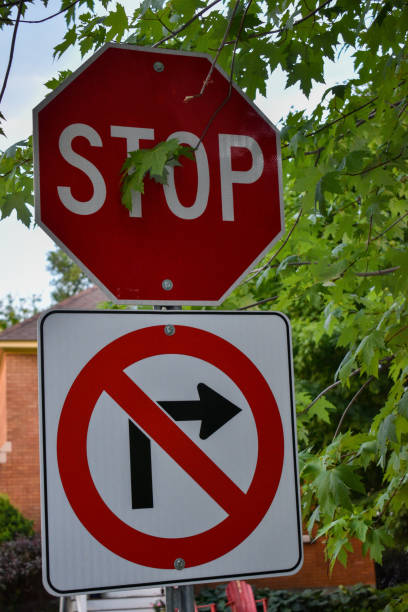saga_girilmez: (59, 323, 288, 581)
